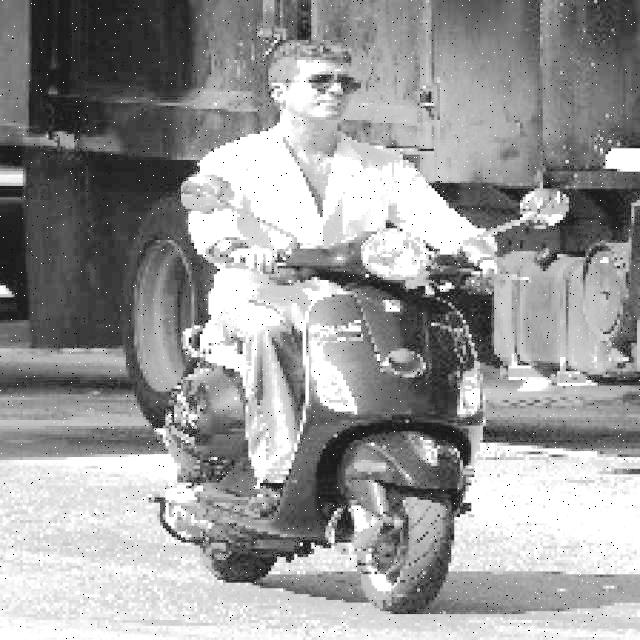Bike: (166, 245, 514, 609)
